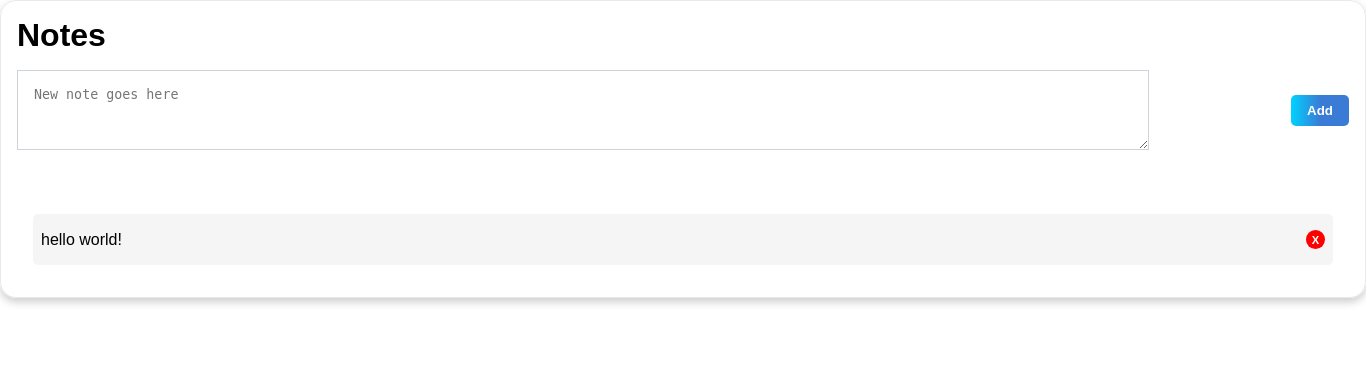
Notes › should add new note
The image size is (1366, 381).
Step 1. Type "This is my firstNote" into the text box with placeholder "New note goes here" → coordinates (583, 110), box left=17, top=70, right=1149, bottom=150
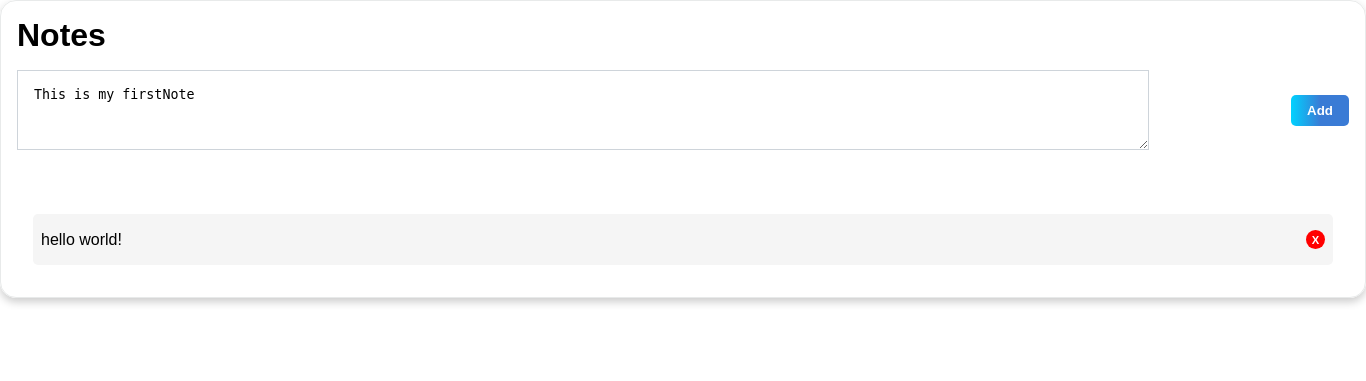
Step 2. Click the button "Add" → coordinates (1320, 110), box left=1291, top=94, right=1349, bottom=126
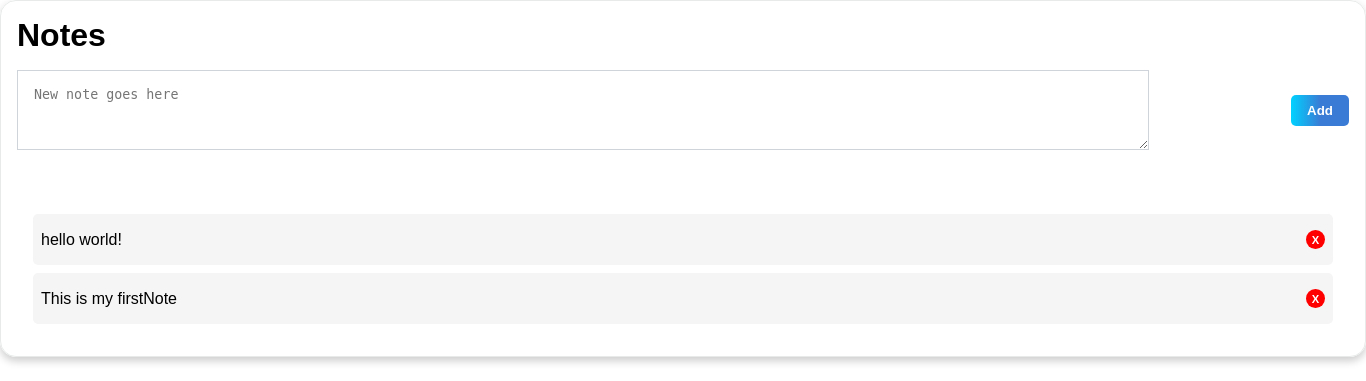
expect the text "This is my firstNote" is shown: met, box left=41, top=290, right=177, bottom=307
